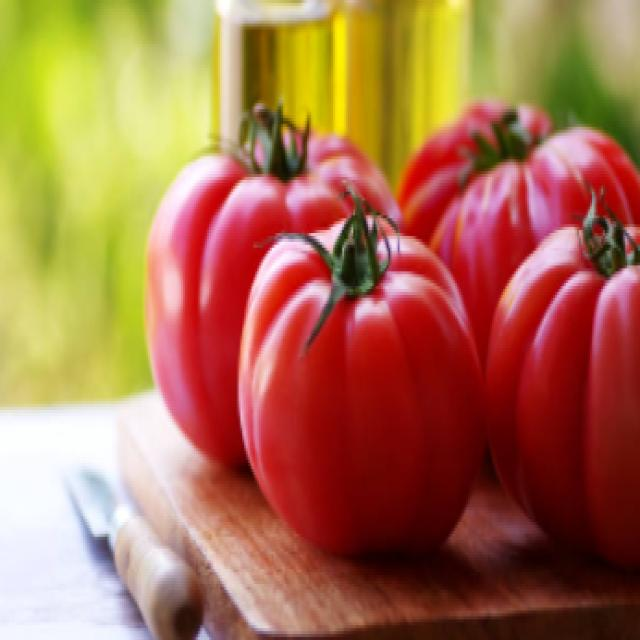Tomato: (242, 196, 484, 572)
